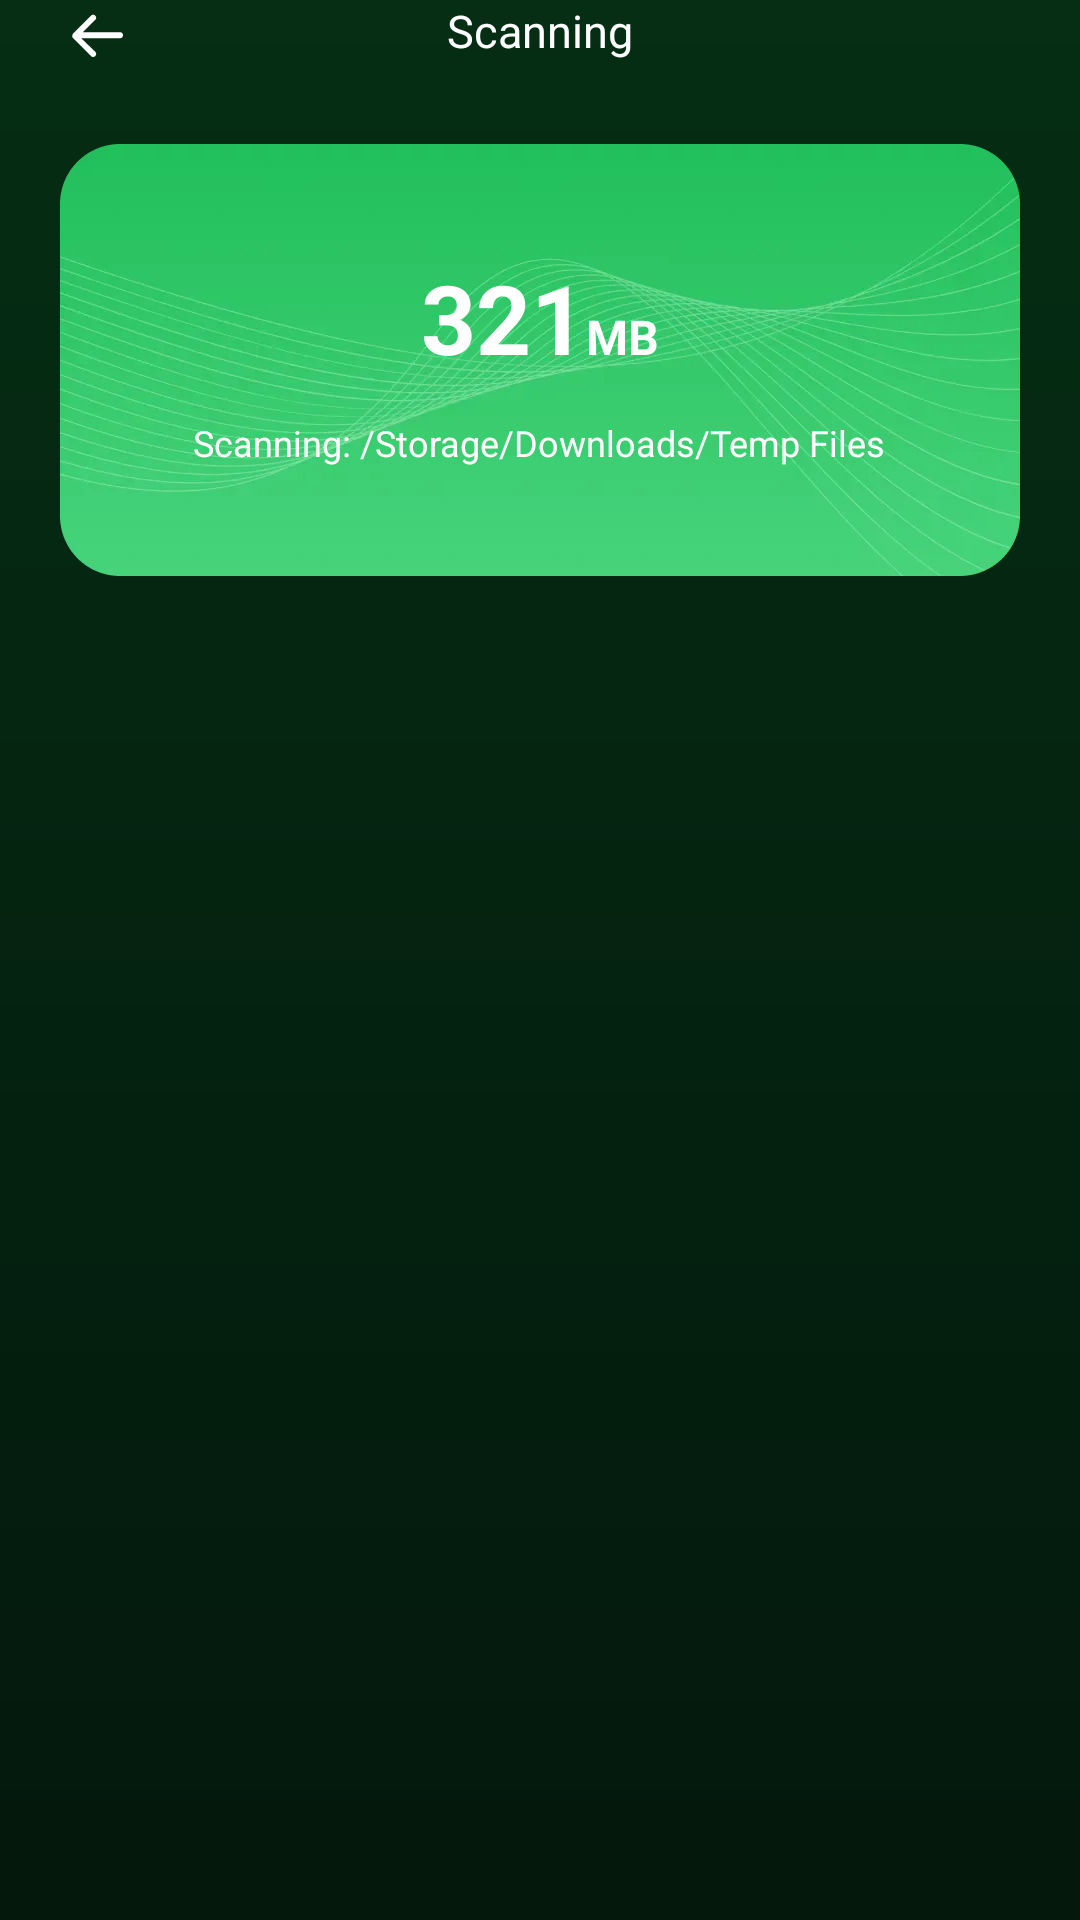

Icon bounding boxes for this 1080w x 1920h phone screenshot, format (x1, y1, x2, y2):
back: (72, 14, 123, 57)
